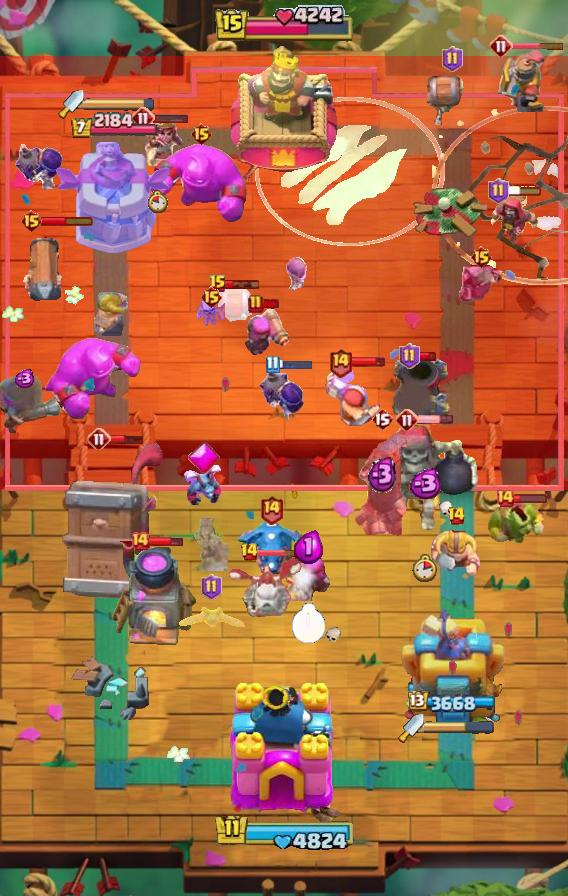bar: (41, 215, 94, 227), (256, 548, 310, 557), (511, 41, 565, 50), (148, 535, 184, 548), (350, 356, 386, 368), (507, 185, 543, 197), (153, 112, 189, 124), (417, 414, 454, 425), (512, 493, 548, 504), (109, 434, 145, 445), (277, 359, 313, 370), (225, 279, 260, 290), (262, 298, 281, 310), (418, 351, 437, 362)
bar-level: (259, 494, 284, 525), (328, 347, 353, 378), (87, 427, 111, 451), (395, 408, 419, 432), (131, 106, 155, 130), (489, 34, 513, 58), (200, 285, 223, 309), (470, 245, 493, 269), (20, 209, 43, 233), (190, 122, 213, 146), (201, 574, 222, 600), (399, 343, 420, 369), (488, 178, 509, 204), (442, 46, 463, 72), (371, 407, 393, 431), (130, 531, 150, 551), (495, 488, 515, 508), (240, 542, 259, 562), (447, 506, 466, 526), (209, 274, 227, 294), (248, 294, 264, 314), (265, 355, 280, 374)
bat-evolution: (176, 604, 246, 634)
bomber-evolution: (13, 142, 65, 196), (259, 367, 305, 425)
clock: (291, 603, 326, 644), (412, 554, 437, 582), (148, 190, 168, 213)
dagger-duchess-tower: (401, 601, 505, 731), (55, 142, 173, 256)
dagger-duchess-tower-bar: (84, 97, 156, 111), (424, 721, 494, 735)
dirt: (190, 518, 228, 571)
electro-dragon: (235, 516, 307, 578)
elite-barbarian: (430, 529, 482, 577), (94, 290, 130, 337)
elixir: (405, 468, 443, 499), (367, 455, 398, 493), (294, 530, 323, 564), (12, 369, 35, 388)
evolution-symbol: (188, 441, 220, 475)
firecracker: (283, 547, 333, 601), (242, 306, 291, 358)
goblin-brawler: (487, 497, 545, 551)
king-tower: (222, 680, 346, 826), (231, 45, 337, 181)
king-tower-bar: (210, 812, 358, 854), (213, 5, 355, 45)
little-prince: (131, 117, 185, 175)
lumberjack: (324, 364, 388, 430)
mini-pekka: (458, 261, 504, 307)
minion: (180, 465, 222, 505)
mortar: (390, 353, 452, 421)
musketeer: (0, 376, 64, 438)
royal-recruit: (488, 50, 544, 112)
skeleton: (197, 297, 225, 329)
skeleton-evolution: (283, 254, 310, 292)
tower-bar: (70, 112, 159, 140), (408, 691, 498, 714)
wall-breaker: (427, 74, 477, 128), (206, 283, 256, 327)
wizard: (489, 194, 539, 248)
